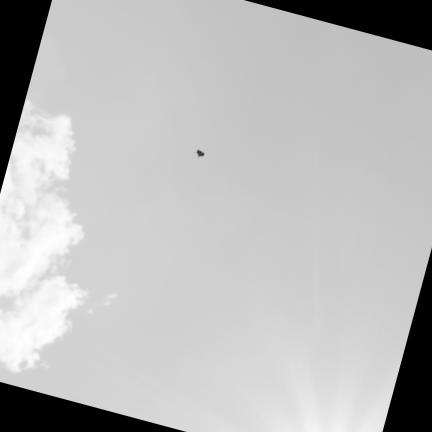Shahed: (196, 149, 202, 156)
